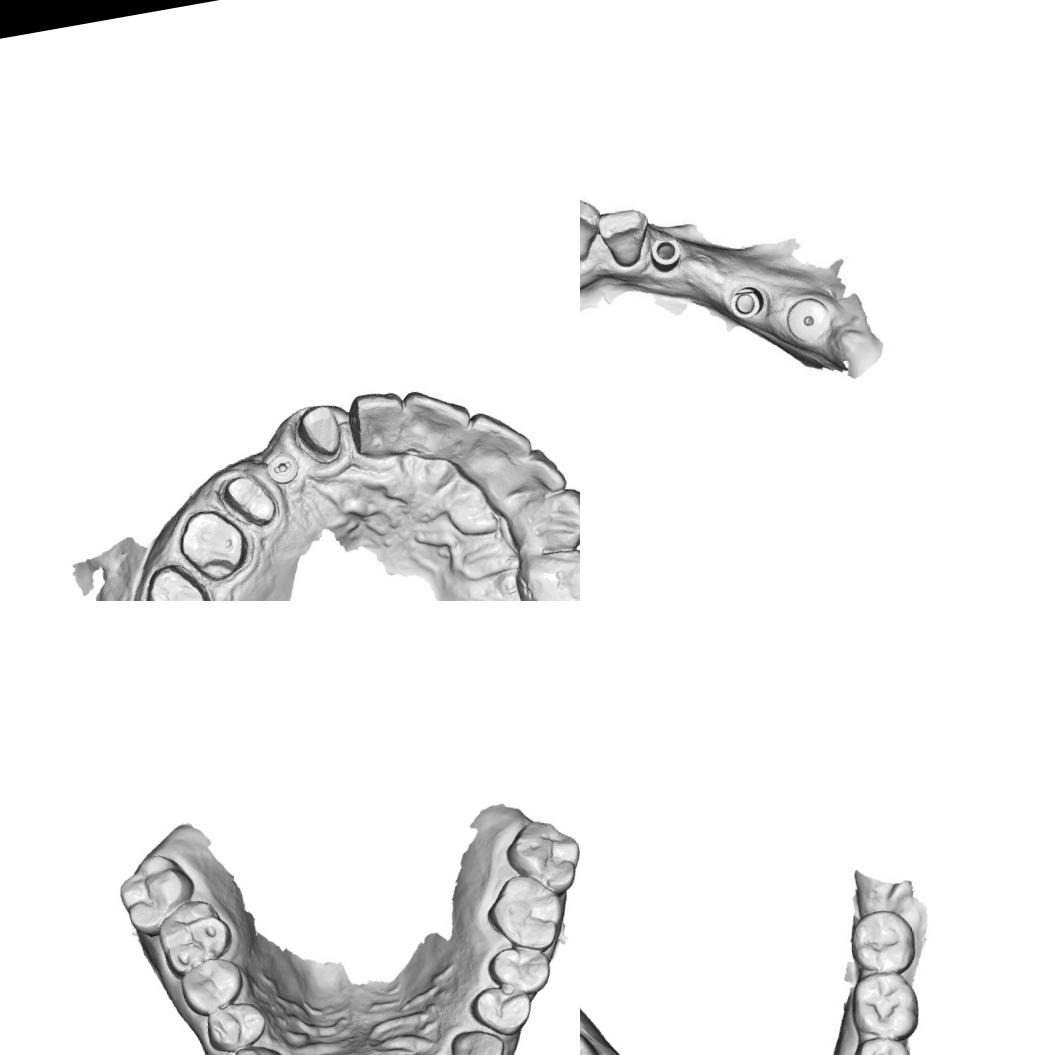canine: (517, 482, 580, 558), (590, 202, 654, 272), (446, 1023, 510, 1055), (226, 1039, 291, 1055)
crown: (172, 501, 254, 588), (221, 468, 280, 538), (138, 555, 218, 601), (293, 401, 350, 464)
implant: (782, 291, 836, 348), (726, 274, 772, 328), (644, 232, 690, 276)
implant_minus: (260, 447, 303, 487)
incisor: (396, 379, 480, 463), (464, 402, 536, 476), (345, 386, 413, 460), (508, 442, 568, 498), (580, 191, 606, 265)
molar: (111, 848, 203, 942), (479, 867, 570, 960), (152, 894, 238, 982), (499, 812, 580, 903), (845, 966, 924, 1046), (842, 902, 921, 980)
premolar: (176, 952, 248, 1020), (467, 978, 537, 1042), (201, 994, 271, 1055), (483, 940, 554, 1000), (513, 543, 580, 601), (845, 1030, 919, 1055)
